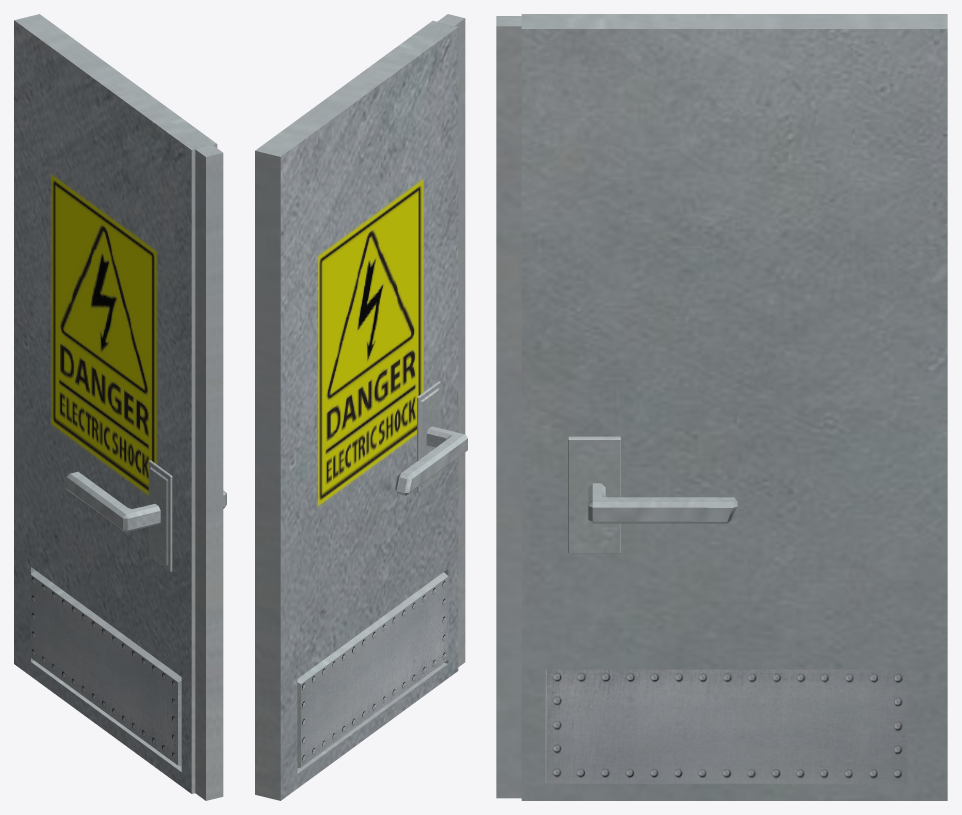
Rendered from edoor.fbx.
3 renders of one model, left to right at view 1: azimuth 30°, elevation 25°; view 2: azimuth 150°, elevation 25°; view 3: azimuth 270°, elevation 25°, orthographic. The views are drawn at different scales.
Parts seen in each view (by area): view 1: door4_pCube163; view 2: door4_pCube163; view 3: door4_pCube163.
Part boxes in pixels (box(x1,y1,x2,y2)): door4_pCube163: box(14, 14, 226, 800); door4_pCube163: box(255, 14, 467, 800); door4_pCube163: box(496, 14, 947, 800).
Bounding box in the file's own units: 45.21 × 267 × 142.
